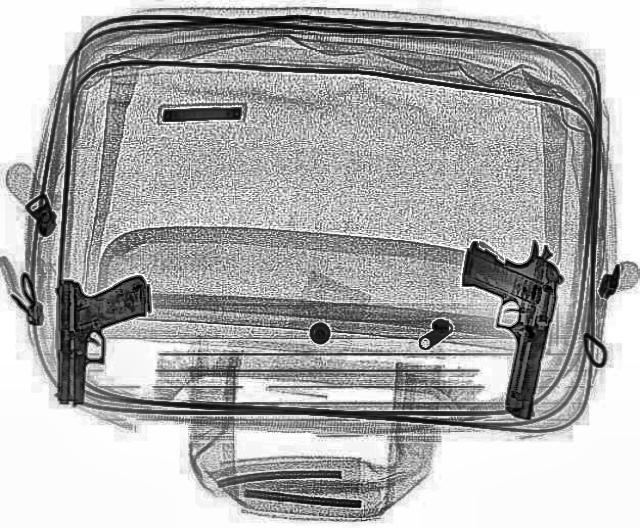Gun: (435, 230, 569, 419), (52, 273, 148, 407)
